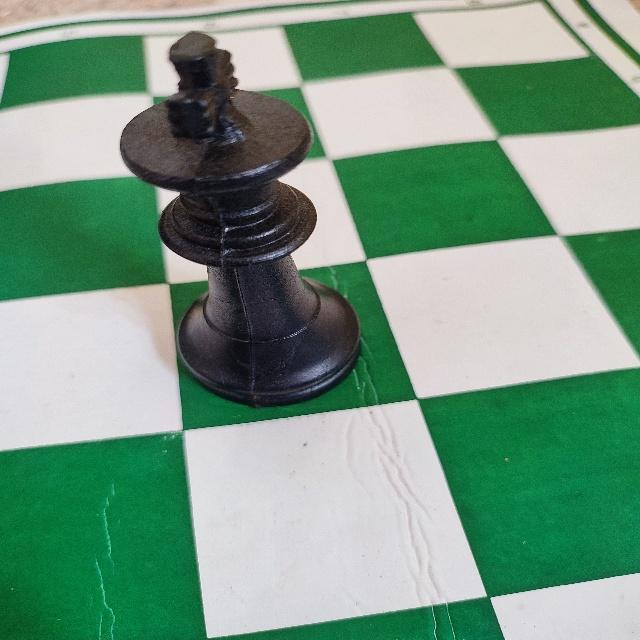King: (111, 30, 365, 411)
